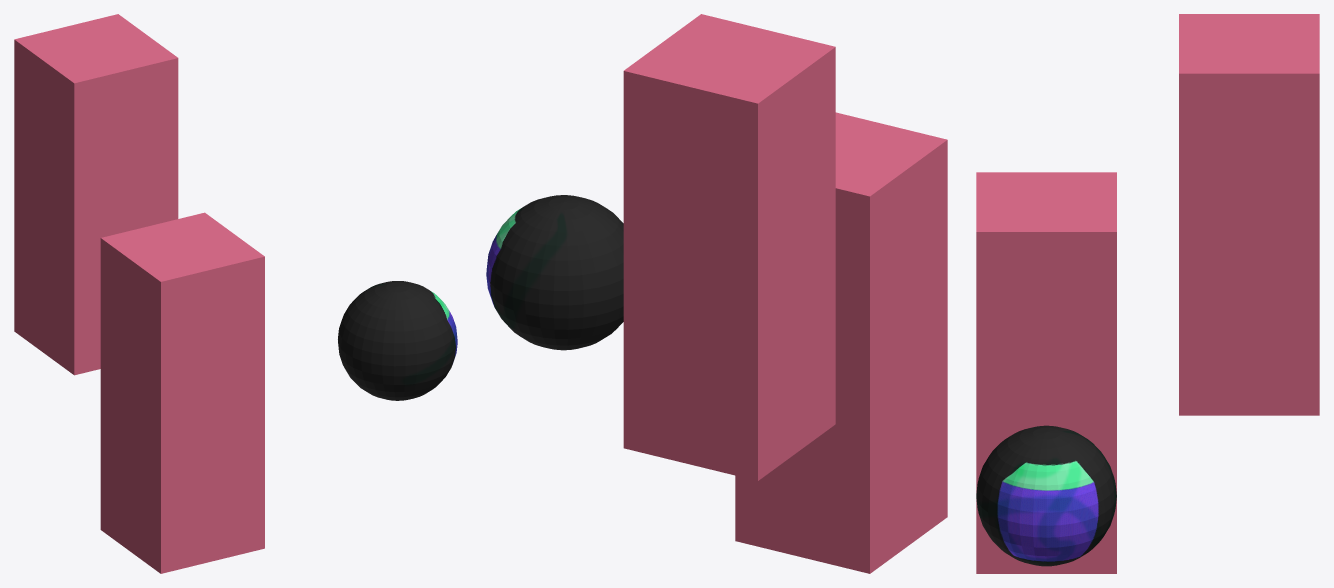
Rendered from DcYcU.glb.
3 renders of one model, left to right at view 1: azimuth 30°, elevation 25°; view 2: azimuth 150°, elevation 25°; view 3: azimuth 270°, elevation 25°, orthographic. The views are drawn at different scales.
Visible parts, largest first — view 1: Cube, Cube.001, Sphère; view 2: Cube.001, Cube, Sphère; view 3: Cube.001, Cube, Sphère.
Boxes of the visible parts, x1,y1,x2,y2 form: Cube: [100, 212, 264, 573]; Cube.001: [14, 14, 178, 375]; Sphère: [338, 281, 457, 400]; Cube.001: [623, 14, 835, 480]; Cube: [735, 112, 947, 573]; Sphère: [486, 195, 623, 350]; Cube.001: [1179, 14, 1319, 415]; Cube: [976, 172, 1116, 573]; Sphère: [976, 425, 1116, 566].
Bounding box in the file's own units: 6.13 × 7.84 × 4.88.
2 materials, 1 textured.
